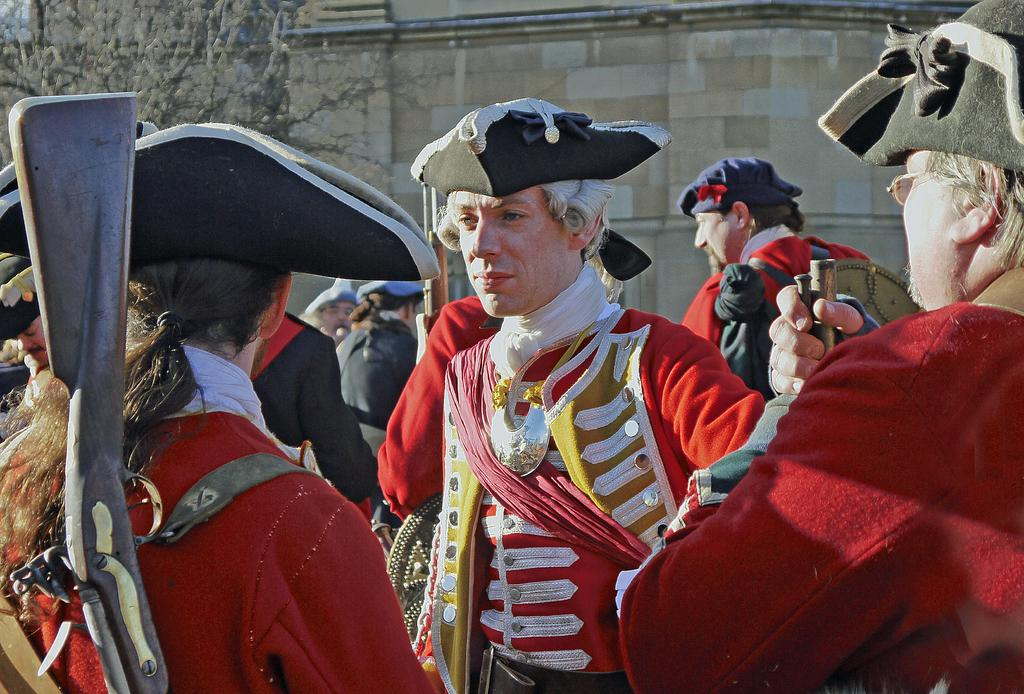Hat: (0, 122, 440, 282), (816, 0, 1024, 165), (409, 97, 673, 200), (678, 154, 802, 218), (0, 253, 37, 337), (302, 272, 356, 314), (360, 282, 427, 295)
